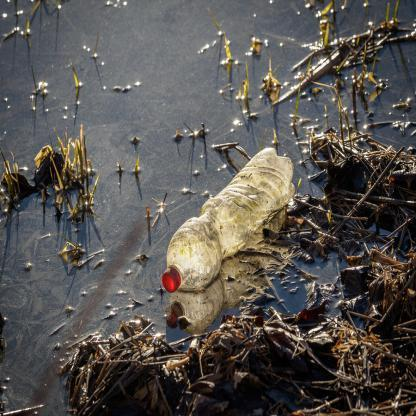plastic bottle: (159, 148, 295, 292)
